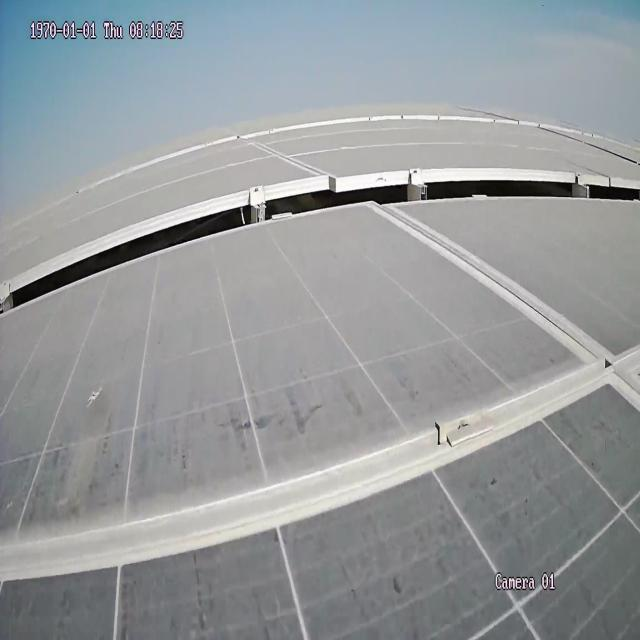interior panel: (1, 207, 640, 581)
outher panel: (0, 171, 639, 316)
